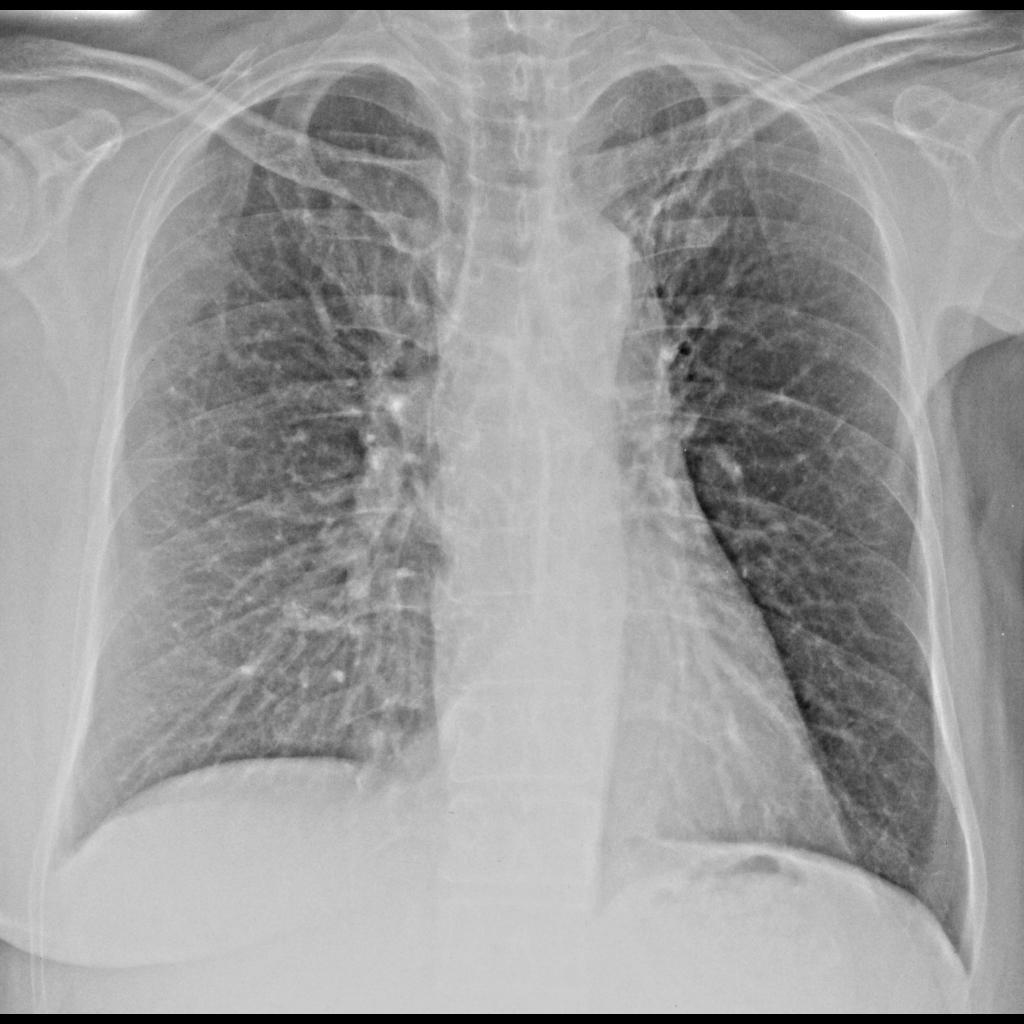Nodule: (366, 730, 426, 790)
